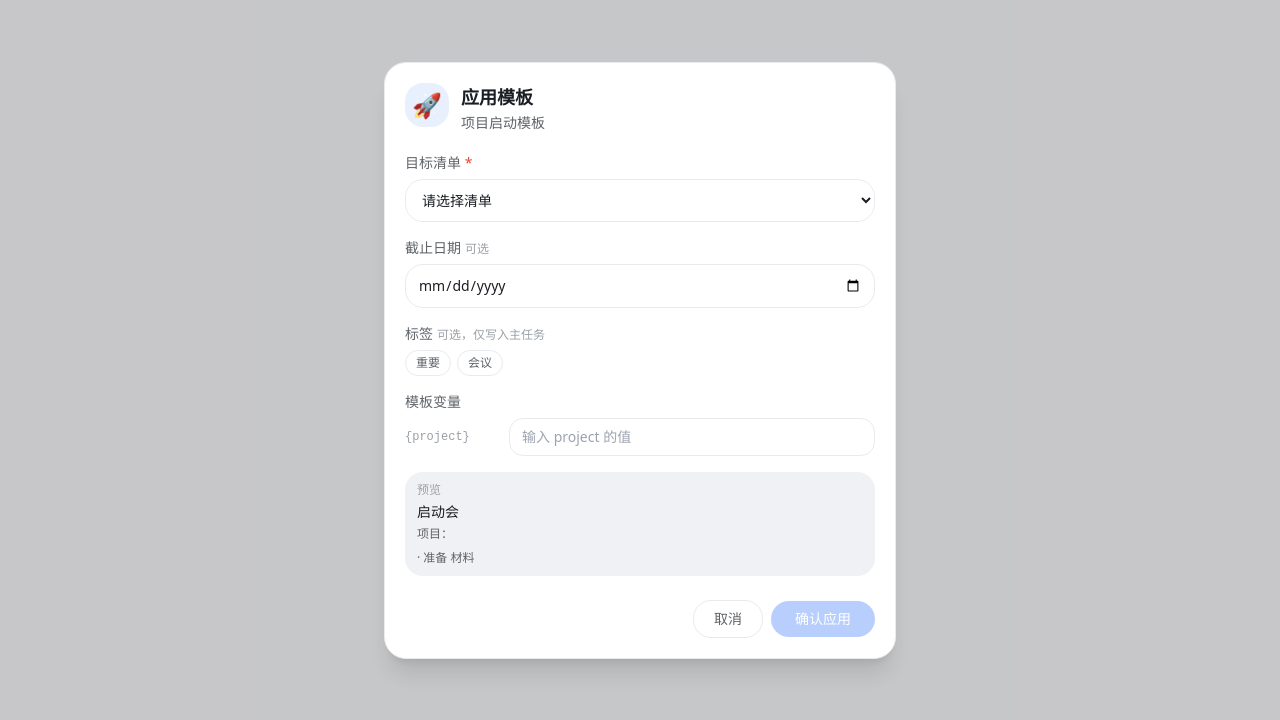
Test: ApplyTemplateDialog › 无有效 defaultListId 时不静默回退到收件箱，必须显式选择清单
The image size is (1280, 720).
Expected: the button "确认应用" is disabled, [771,600,875,636]
# 显式选择后可提交
Select "工作" in the dropdown labelled "目标清单 *" at [640, 200], box [405,178,875,222]
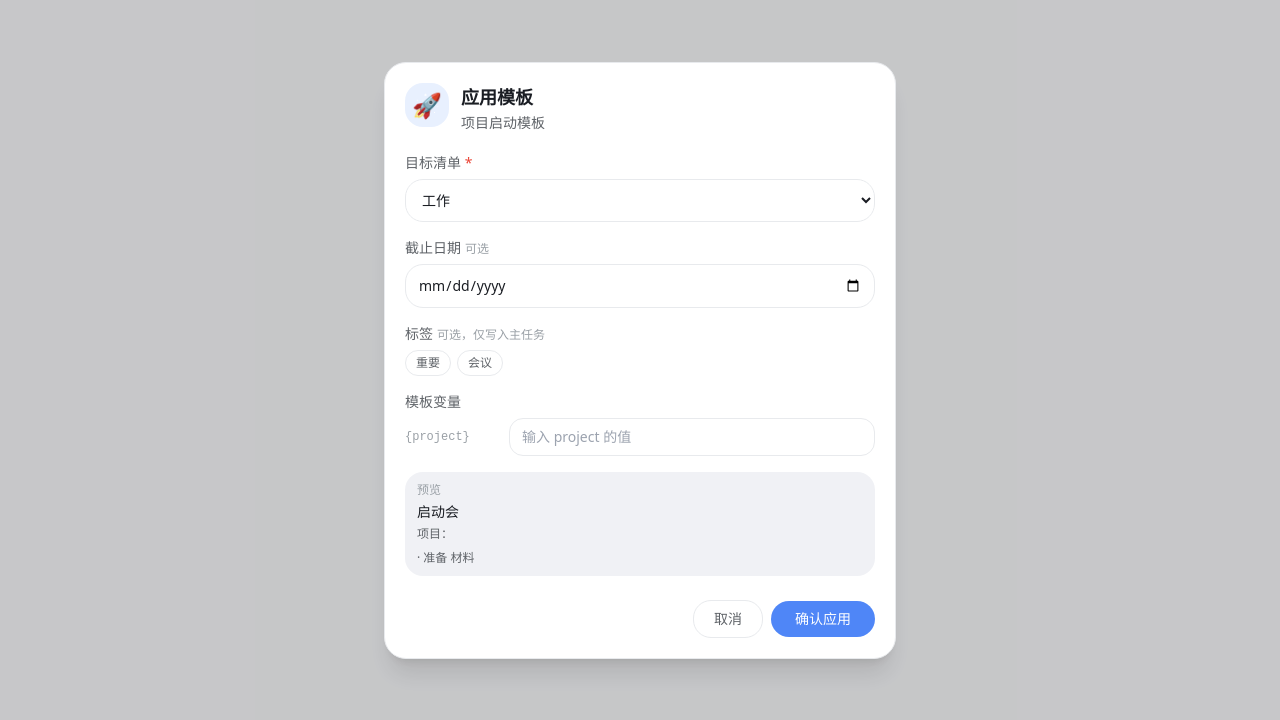
Expected: the button "确认应用" is enabled, [771,600,875,636]
